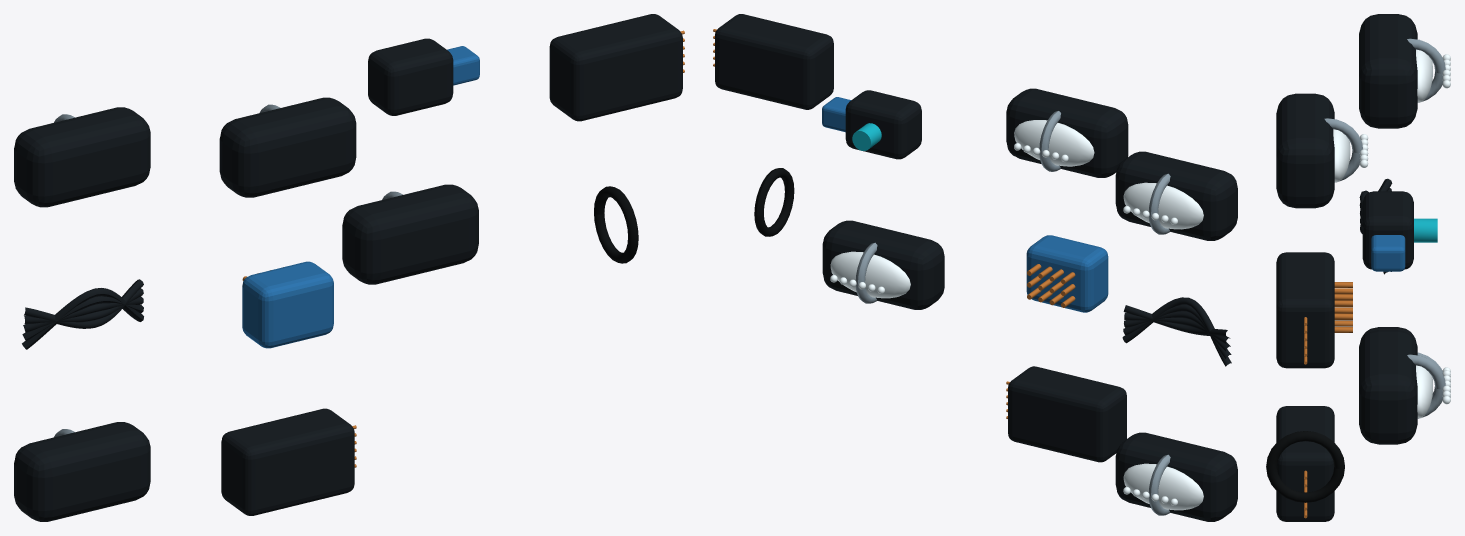
Rendered from generic_lighting.glb.
3 views of the same model, side by side, from view 1: azimuth 30°, elevation 25°; view 2: azimuth 150°, elevation 25°; view 3: azimuth 270°, elevation 25° (orthographic). The views are drawn at different scales.
Parts seen in each view (by area): view 1: system_mesh__afs_module__housing, system_mesh__interior_light_module__housing, system_mesh__brake_lamps__housing, system_mesh__rear_lamps__housing, system_mesh__matrix_led_module__housing, system_mesh__door_lamps__housing, system_mesh__bulb_connectors__shell, system_mesh__headlamp_level_sensor__sealed_body, system_mesh__lamp_seals__service_profile, system_mesh__headlamp_harness__route_1, system_mesh__headlamp_level_sensor__connector, system_mesh__headlamp_harness__route_5; view 2: system_mesh__afs_module__housing, system_mesh__interior_light_module__housing, system_mesh__rear_lamps__housing, system_mesh__matrix_led_module__housing, system_mesh__door_lamps__housing, system_mesh__brake_lamps__housing, system_mesh__bulb_connectors__shell, system_mesh__headlamp_level_sensor__sealed_body, system_mesh__rear_lamps__lens, system_mesh__door_lamps__lens, system_mesh__matrix_led_module__lens, system_mesh__brake_lamps__lens (+9 smaller); view 3: system_mesh__afs_module__housing, system_mesh__brake_lamps__housing, system_mesh__matrix_led_module__housing, system_mesh__rear_lamps__housing, system_mesh__interior_light_module__housing, system_mesh__headlamp_level_sensor__sealed_body, system_mesh__lamp_seals__service_profile, system_mesh__headlamp_level_sensor__connector, system_mesh__rear_lamps__reflector, system_mesh__matrix_led_module__reflector, system_mesh__brake_lamps__reflector, system_mesh__brake_lamps__lens (+3 smaller).
Part boxes in pixels (x1,y1,x2,y2): system_mesh__afs_module__housing: [549, 14, 682, 121]; system_mesh__interior_light_module__housing: [221, 408, 354, 515]; system_mesh__brake_lamps__housing: [219, 97, 356, 197]; system_mesh__rear_lamps__housing: [342, 184, 478, 284]; system_mesh__matrix_led_module__housing: [14, 107, 150, 207]; system_mesh__door_lamps__housing: [14, 422, 150, 521]; system_mesh__bulb_connectors__shell: [242, 261, 333, 348]; system_mesh__headlamp_level_sensor__sealed_body: [368, 38, 453, 115]; system_mesh__lamp_seals__service_profile: [594, 186, 638, 263]; system_mesh__headlamp_harness__route_1: [22, 288, 143, 349]; system_mesh__headlamp_level_sensor__connector: [447, 46, 479, 85]; system_mesh__headlamp_harness__route_5: [24, 279, 143, 328]; system_mesh__afs_module__housing: [715, 14, 833, 109]; system_mesh__interior_light_module__housing: [1008, 366, 1126, 462]; system_mesh__rear_lamps__housing: [822, 220, 944, 309]; system_mesh__matrix_led_module__housing: [1115, 151, 1237, 240]; system_mesh__door_lamps__housing: [1115, 432, 1237, 521]; system_mesh__brake_lamps__housing: [1006, 88, 1128, 177]; system_mesh__bulb_connectors__shell: [1026, 235, 1108, 312]; system_mesh__headlamp_level_sensor__sealed_body: [845, 90, 921, 159]; system_mesh__rear_lamps__lens: [830, 251, 910, 298]; system_mesh__door_lamps__lens: [1123, 463, 1203, 510]; system_mesh__matrix_led_module__lens: [1123, 182, 1203, 229]; system_mesh__brake_lamps__lens: [1014, 120, 1094, 166]; system_mesh__afs_module__housing: [1276, 252, 1334, 368]; system_mesh__brake_lamps__housing: [1276, 93, 1334, 208]; system_mesh__matrix_led_module__housing: [1359, 14, 1417, 128]; system_mesh__rear_lamps__housing: [1359, 330, 1417, 444]; system_mesh__interior_light_module__housing: [1276, 406, 1334, 521]; system_mesh__headlamp_level_sensor__sealed_body: [1362, 191, 1413, 269]; system_mesh__lamp_seals__service_profile: [1266, 431, 1344, 502]; system_mesh__headlamp_level_sensor__connector: [1371, 235, 1405, 271]; system_mesh__rear_lamps__reflector: [1407, 354, 1445, 418]; system_mesh__matrix_led_module__reflector: [1407, 38, 1445, 101]; system_mesh__brake_lamps__reflector: [1324, 118, 1362, 181]; system_mesh__brake_lamps__lens: [1333, 129, 1350, 182].
Bounding box in the file's own units: 5.86 × 3.46 × 1.52.
